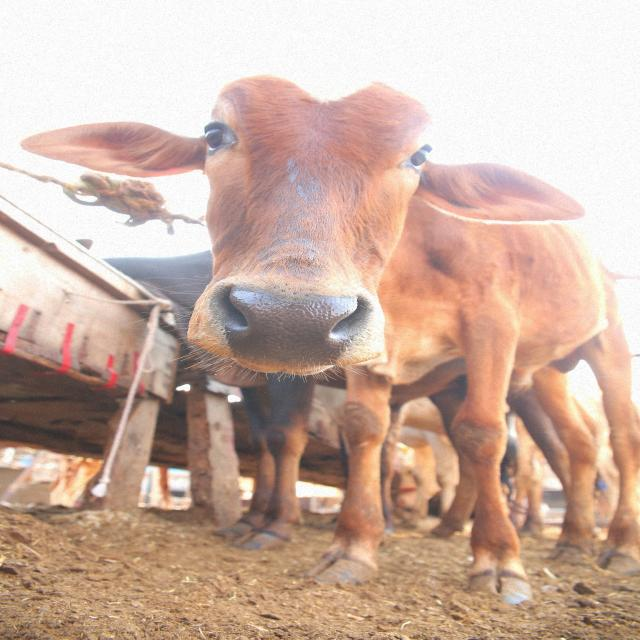muzzles: (193, 272, 379, 370)
